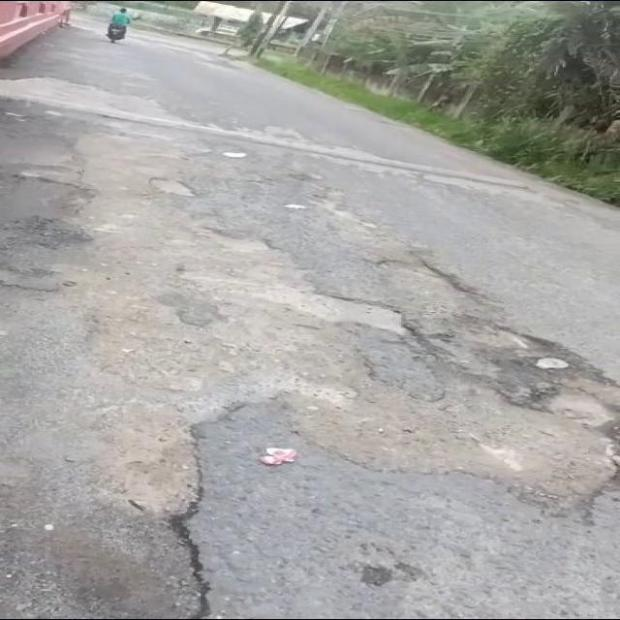lubang: (332, 221, 619, 469), (0, 333, 200, 616)
